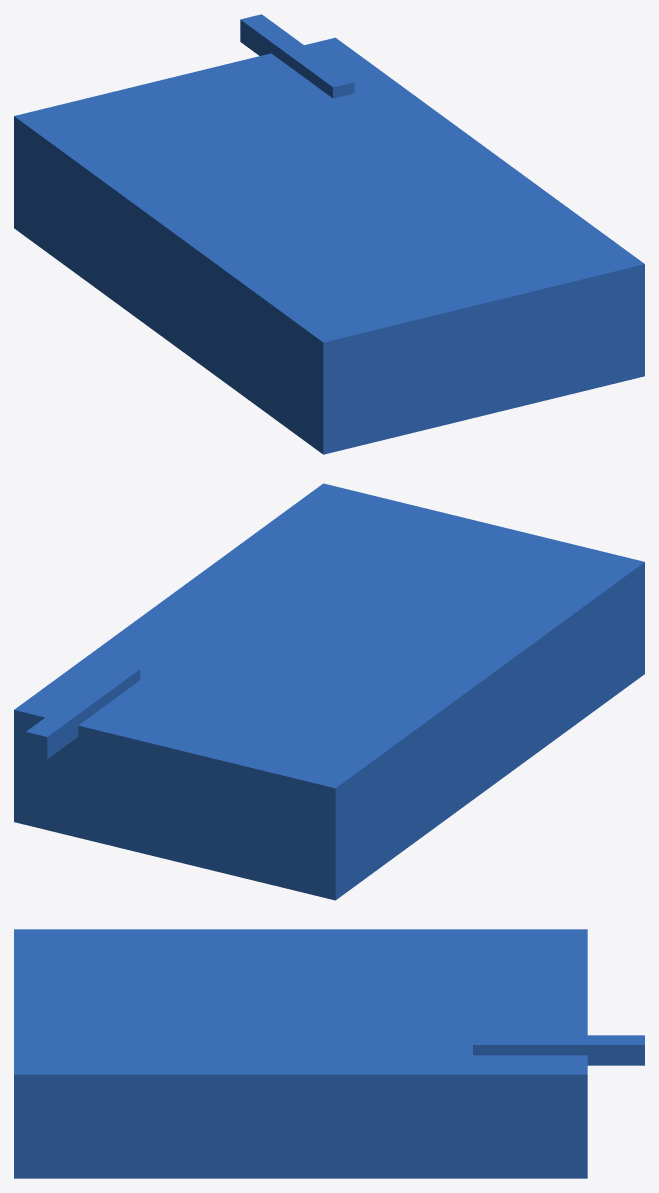
The model's file is pipeline_fixture.glb.
3 views of the same model, one above another, from view 1: azimuth 30°, elevation 25°; view 2: azimuth 150°, elevation 25°; view 3: azimuth 270°, elevation 25° (orthographic). The views are drawn at different scales.
Parts seen in each view (by area): view 1: MeterBody, PivotLever; view 2: MeterBody, PivotLever; view 3: MeterBody, PivotLever.
Boxes of the visible parts, x1,y1,x2,y2 form: MeterBody: (14, 37, 644, 454); PivotLever: (240, 14, 354, 98); MeterBody: (14, 483, 644, 900); PivotLever: (26, 664, 140, 759); MeterBody: (14, 929, 587, 1178); PivotLever: (473, 1035, 644, 1065).
Bounding box in the file's own units: 0.6 × 0.22 × 1.1.
